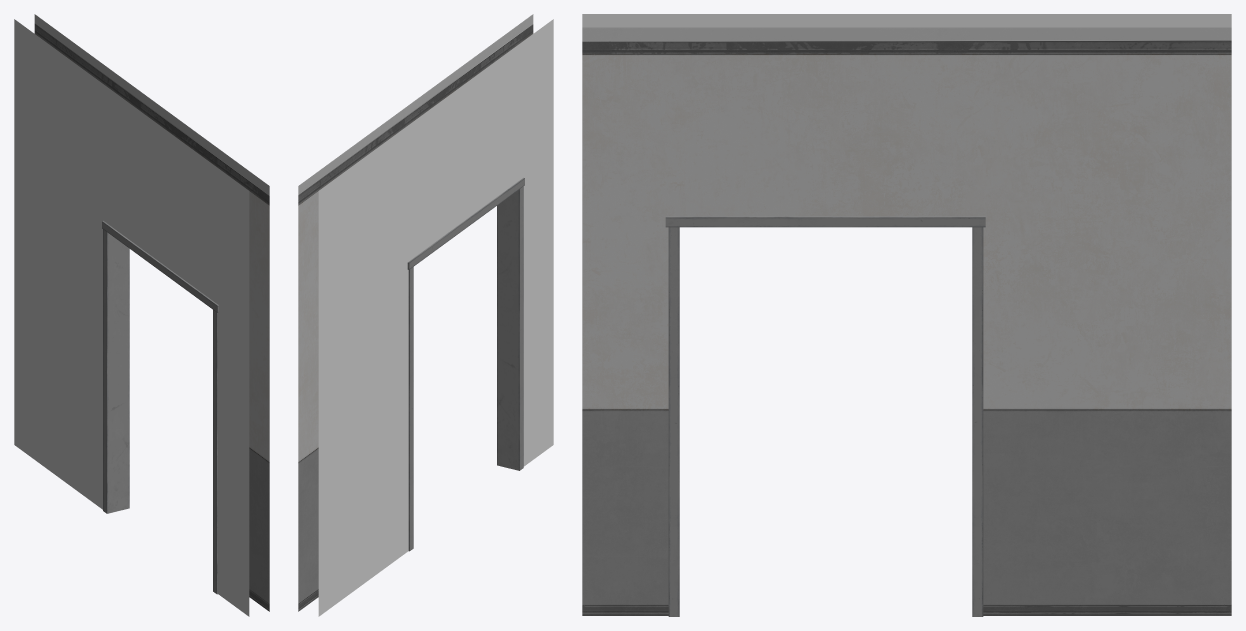
File: HH_Hospital_Archway.fbx
3 views of the same model, side by side, from view 1: azimuth 30°, elevation 25°; view 2: azimuth 150°, elevation 25°; view 3: azimuth 270°, elevation 25° (orthographic). The views are drawn at different scales.
Visible parts, largest first — view 1: HH_Hospital_Archway; view 2: HH_Hospital_Archway; view 3: HH_Hospital_Archway.
Boxes of the visible parts, left/top/right/bottom form: HH_Hospital_Archway: left=14, top=14, right=269, bottom=616; HH_Hospital_Archway: left=298, top=14, right=553, bottom=616; HH_Hospital_Archway: left=582, top=14, right=1231, bottom=616.
Size of the model in its own units: 23.09 by 400 by 400.
